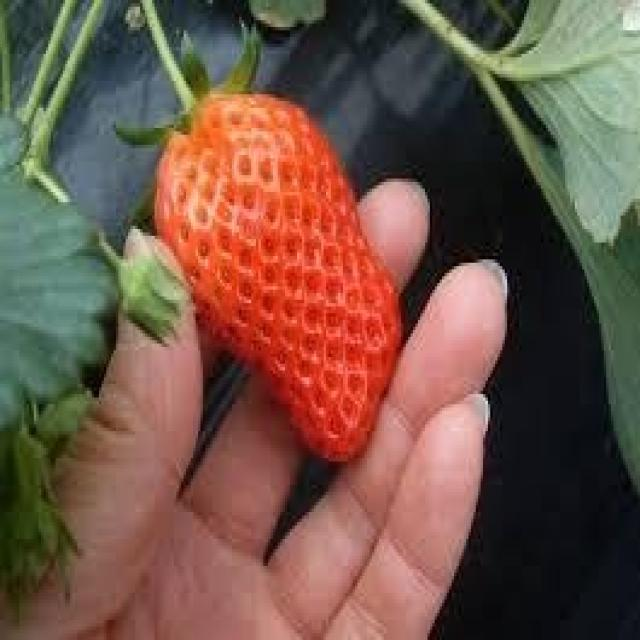mature: (153, 92, 402, 462)
